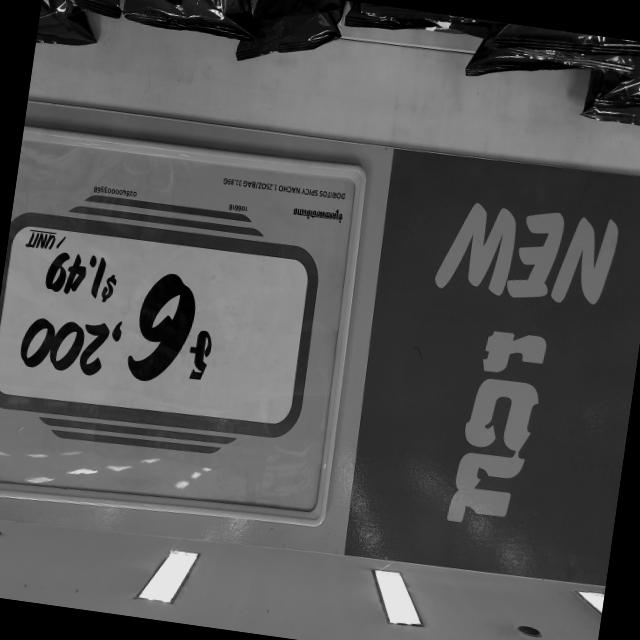336: (91, 182, 140, 200)
516: (265, 181, 279, 194)
522: (42, 252, 112, 304)
544: (226, 203, 249, 214)
716: (227, 175, 243, 189)
807: (16, 268, 205, 392)
Yolov11kh: (436, 319, 558, 547), (291, 203, 345, 227)
